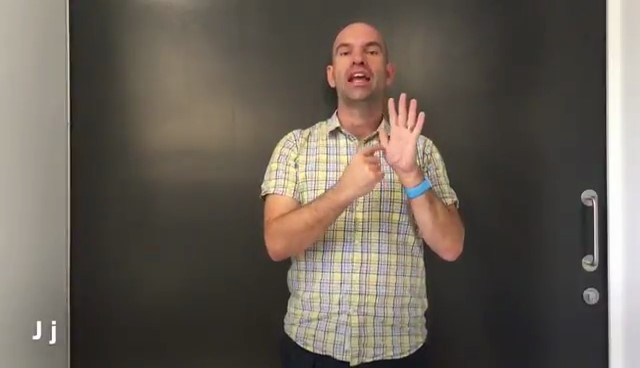J: (325, 86, 436, 206)
